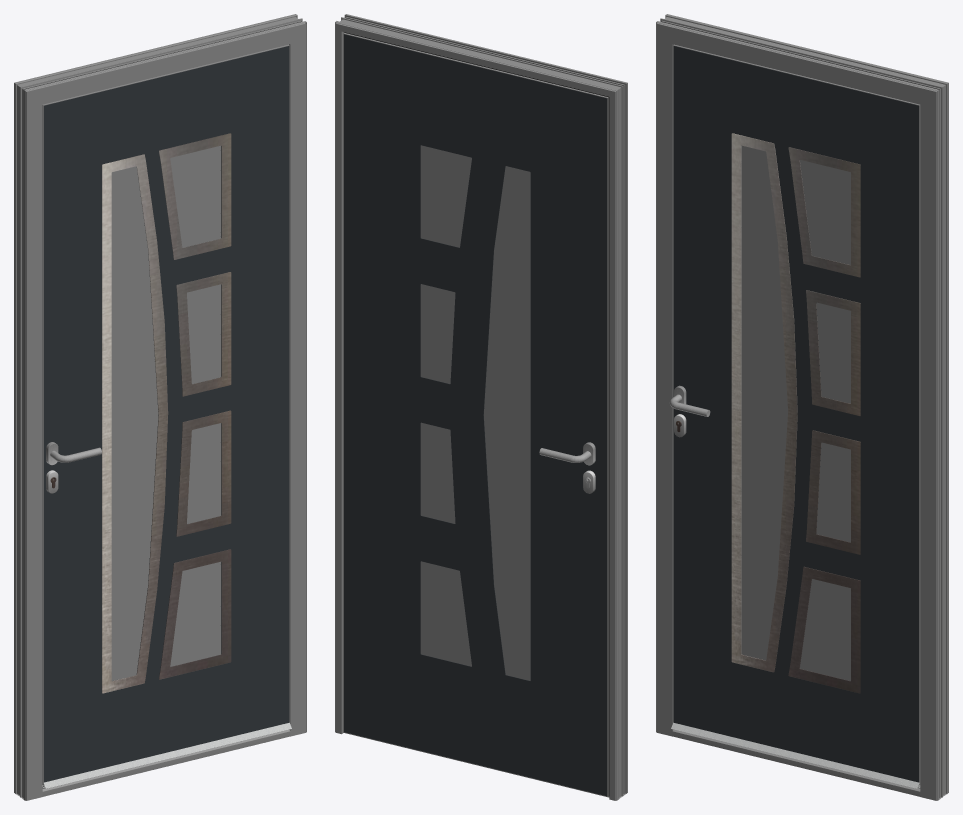
The picture shows the model from 3 angles, left to right: view 1: azimuth 30°, elevation 25°; view 2: azimuth 150°, elevation 25°; view 3: azimuth 330°, elevation 25°; orthographic projection.
Visible parts, largest first — view 1: bloco_24, aroFixo, Box001, alunox_15, aroMovel, rodapé, escovas, puxador001; view 2: bloco_24, Box002, aroFixo, aroMovel, puxador; view 3: bloco_24, aroFixo, Box001, alunox_15, aroMovel, rodapé, escovas, puxador001.
Boxes of the visible parts, bbox=[...] form: bloco_24: bbox=[44, 46, 289, 782]; aroFixo: bbox=[14, 14, 306, 800]; Box001: bbox=[111, 145, 221, 680]; alunox_15: bbox=[102, 133, 231, 693]; aroMovel: bbox=[42, 44, 289, 784]; rodapé: bbox=[42, 729, 290, 796]; escovas: bbox=[42, 722, 291, 788]; puxador001: bbox=[46, 442, 101, 493]; bloco_24: bbox=[344, 34, 607, 796]; Box002: bbox=[420, 145, 530, 680]; aroFixo: bbox=[335, 14, 627, 800]; aroMovel: bbox=[343, 32, 609, 796]; puxador: bbox=[539, 442, 595, 493]; bloco_24: bbox=[673, 46, 918, 782]; aroFixo: bbox=[656, 14, 948, 800]; Box001: bbox=[741, 145, 850, 680]; alunox_15: bbox=[731, 133, 860, 693]; aroMovel: bbox=[673, 44, 920, 784]; rodapé: bbox=[672, 729, 920, 796]; escovas: bbox=[671, 722, 920, 788]; puxador001: bbox=[669, 385, 710, 437].
Size of the model in its own units: 900 by 2165 by 209.
10 materials, 5 textured.
